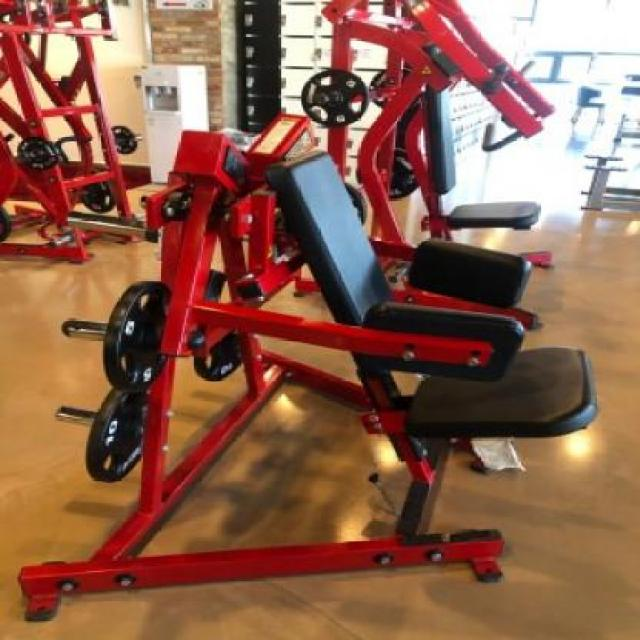Chest Press machine: (312, 0, 554, 246)
lateral raises machine: (55, 154, 600, 595)
